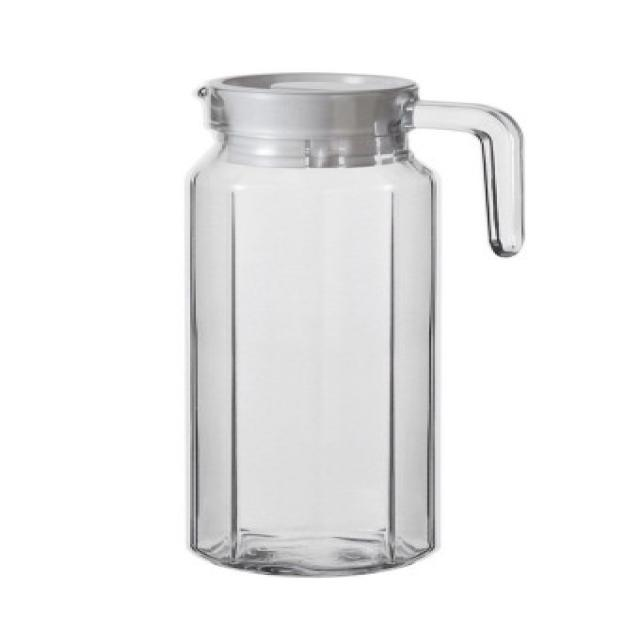glass: (145, 61, 531, 606)
